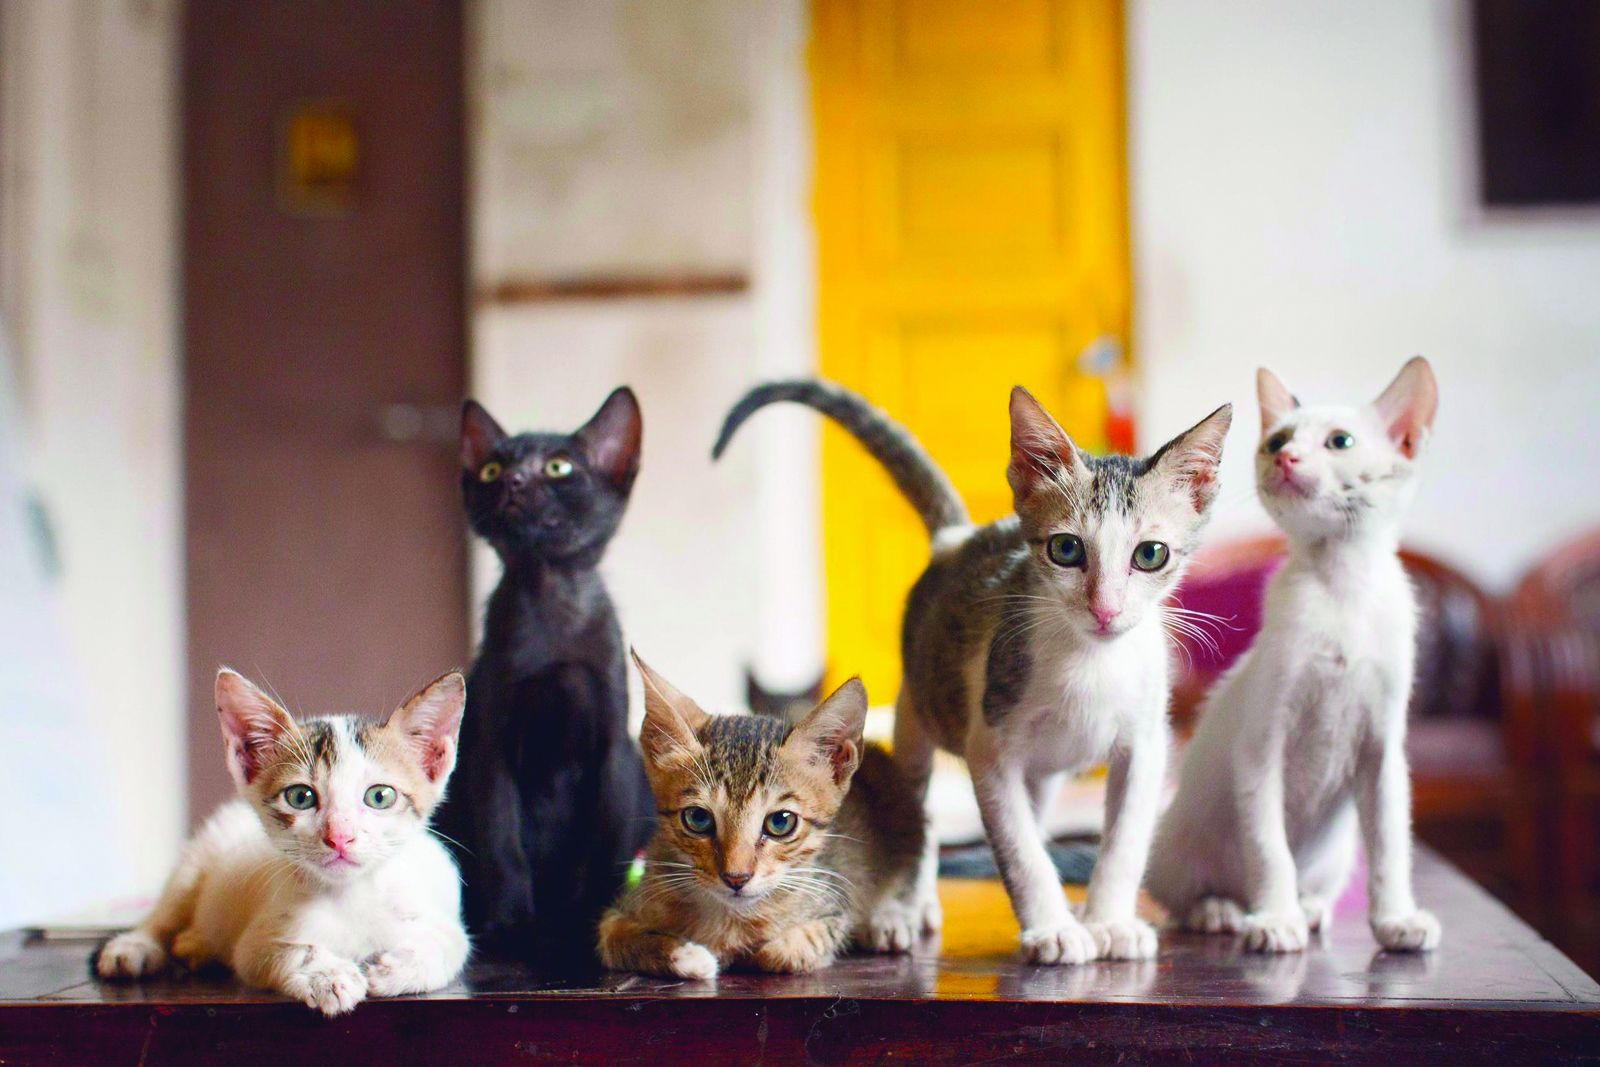cat: (865, 389, 1220, 982), (1171, 377, 1461, 972), (104, 674, 481, 999), (446, 394, 654, 973), (606, 631, 940, 957)
